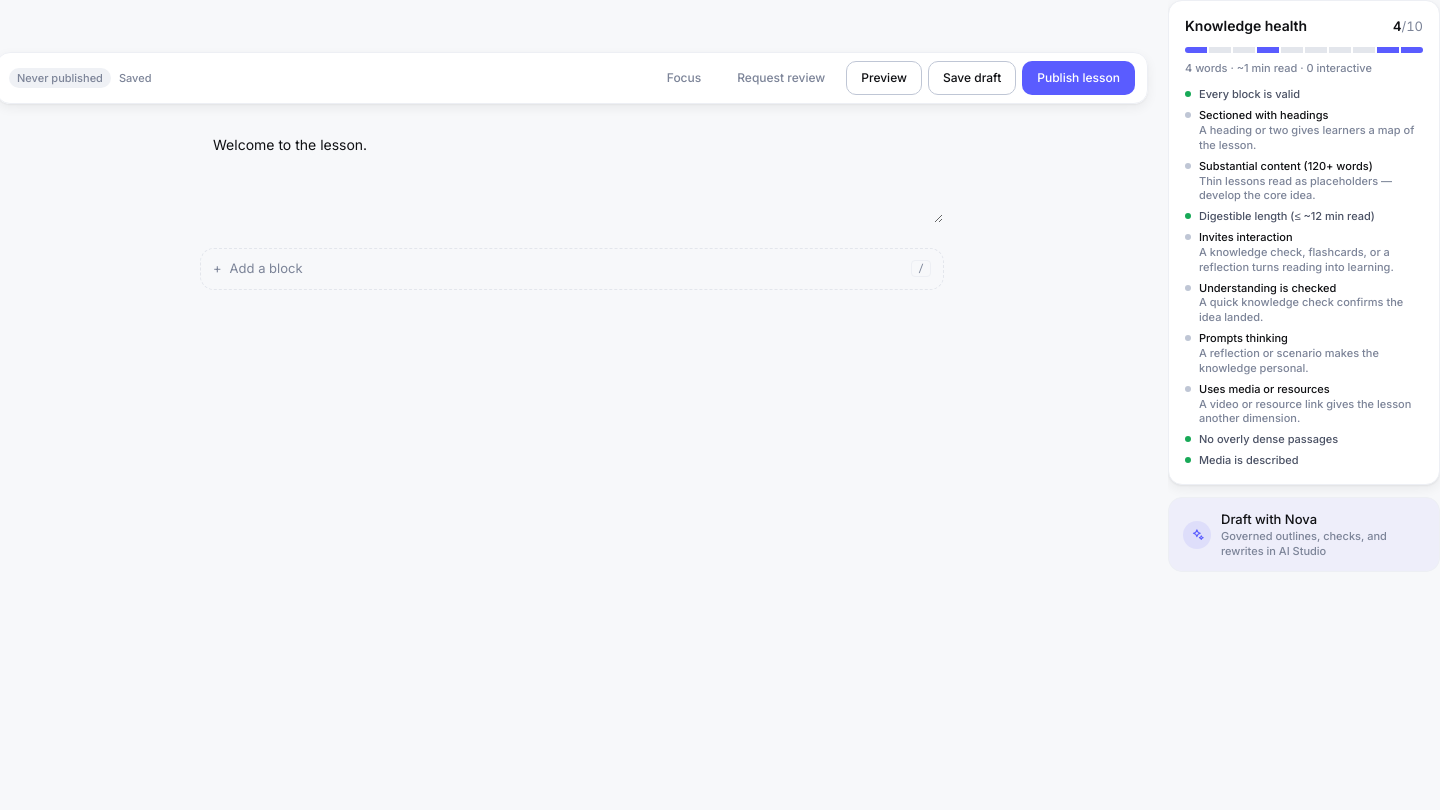
Test: lesson editor › an invalid block is flagged inline and blocks saving
Clear the text box named "text content" at (572, 175), box 200,126 -> 944,224
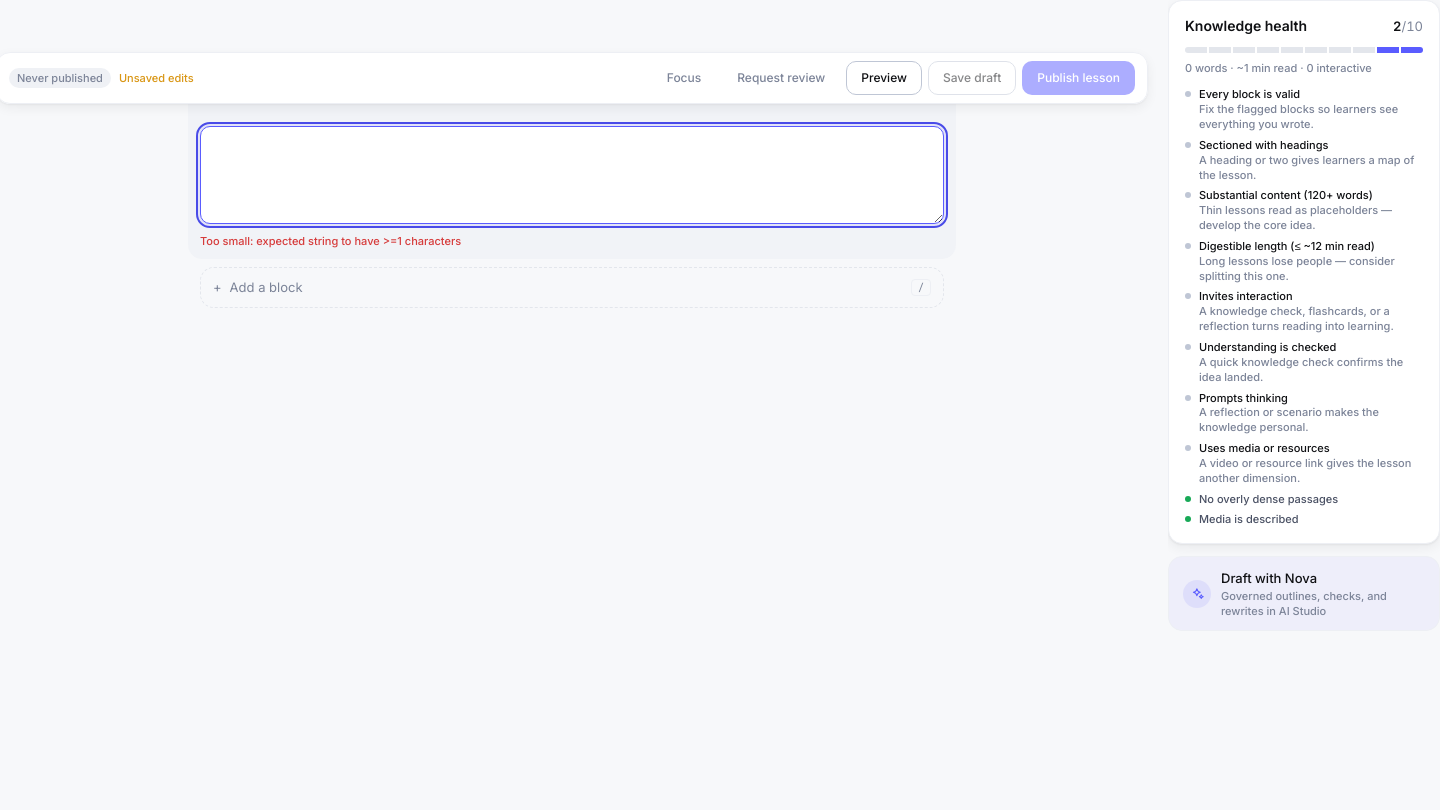
Check: the message "Too small: expected string to have >=1 characters" is shown, box 200,234 -> 461,248
Check: the button "Save draft" is disabled, box 928,61 -> 1016,95
Check: the button "Publish lesson" is disabled, box 1022,61 -> 1135,95
